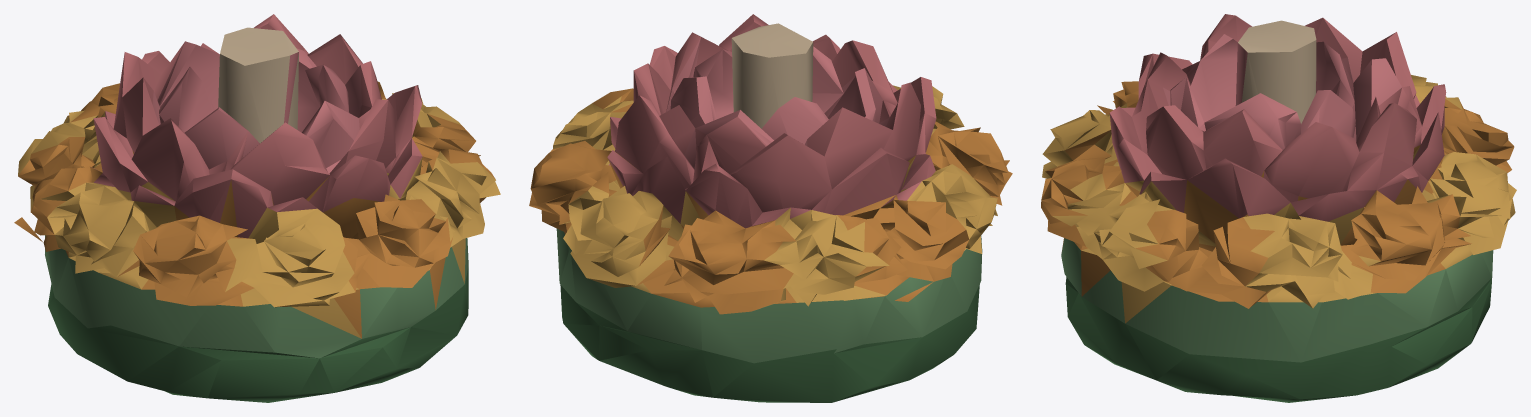
The model's file is marigold_01.full.glb.
The picture shows the model from 3 angles, left to right: view 1: azimuth 30°, elevation 25°; view 2: azimuth 150°, elevation 25°; view 3: azimuth 270°, elevation 25°; orthographic projection.
Bounding box in the file's own units: 2.19 × 1.45 × 2.19.
